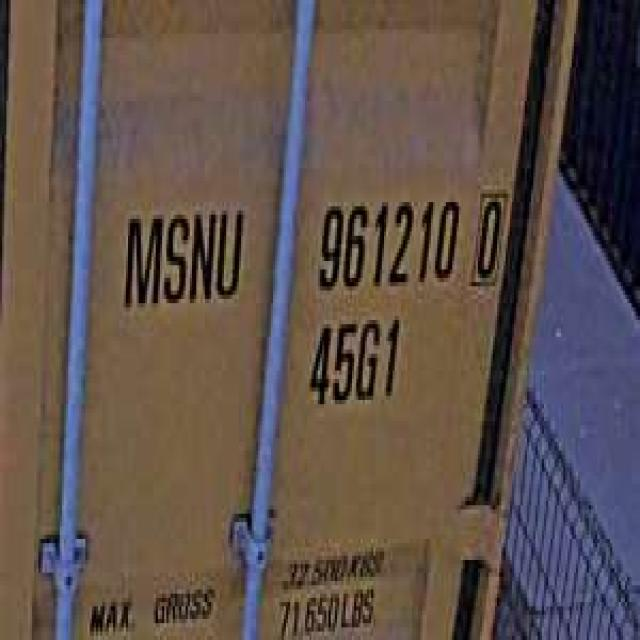dv: (468, 177, 510, 295)
owner: (118, 189, 248, 320)
serial: (311, 181, 461, 299)
size: (303, 307, 405, 417)
